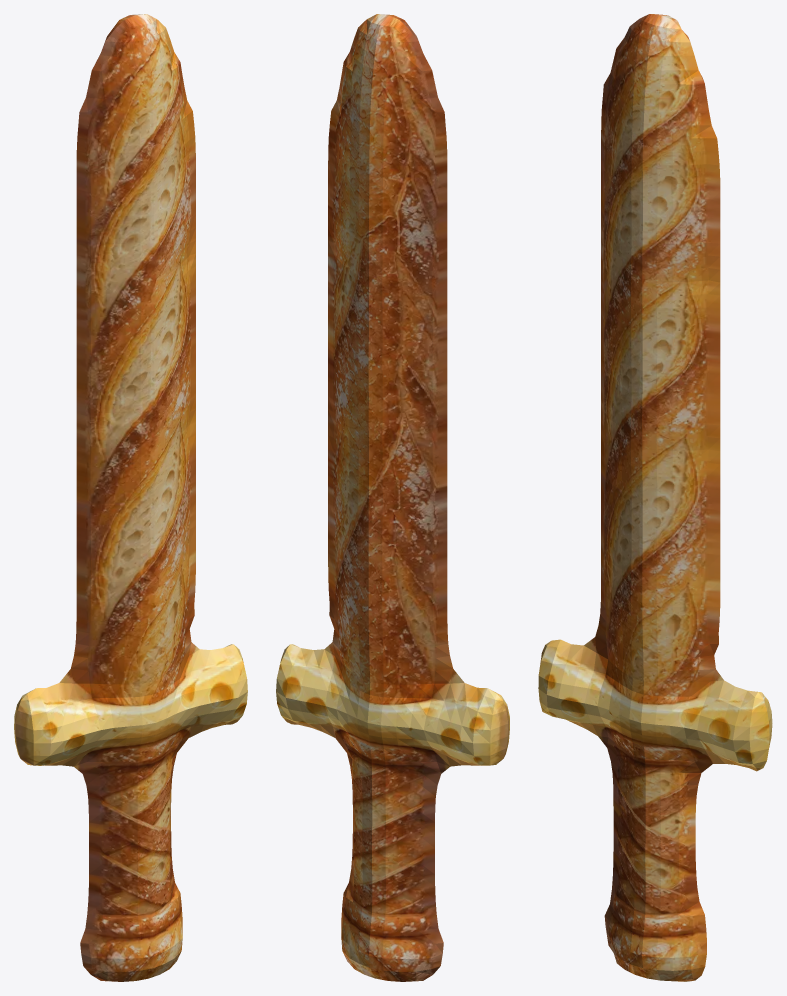
Rendered from baguette_sword.glb.
3 views of the same model, side by side, from view 1: azimuth 30°, elevation 25°; view 2: azimuth 150°, elevation 25°; view 3: azimuth 330°, elevation 25° (orthographic).
Visible parts, largest first — view 1: geometry_0; view 2: geometry_0; view 3: geometry_0.
Boxes of the visible parts, x1=… form: geometry_0: x1=14, y1=14, x2=247, y2=981; geometry_0: x1=276, y1=14, x2=509, y2=981; geometry_0: x1=538, y1=14, x2=772, y2=981.
Size of the model in its own units: 0.2432 by 0.9756 by 0.0734.
Materials: 1 (1 with a texture image).
